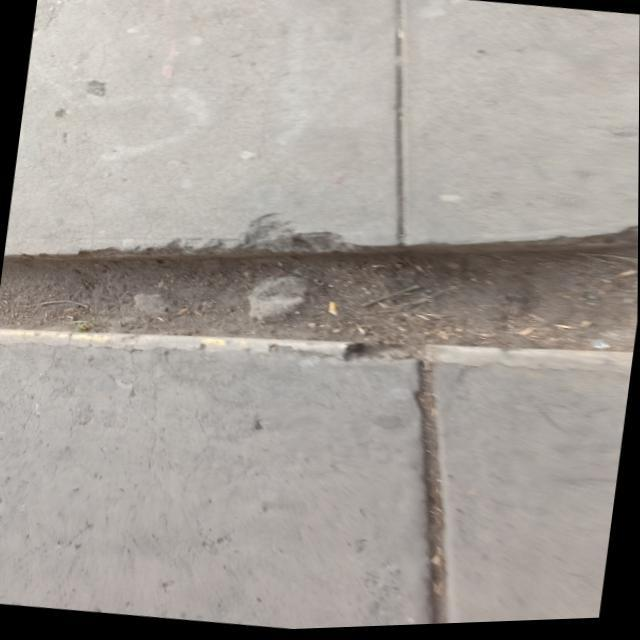hole: (3, 226, 621, 379)
